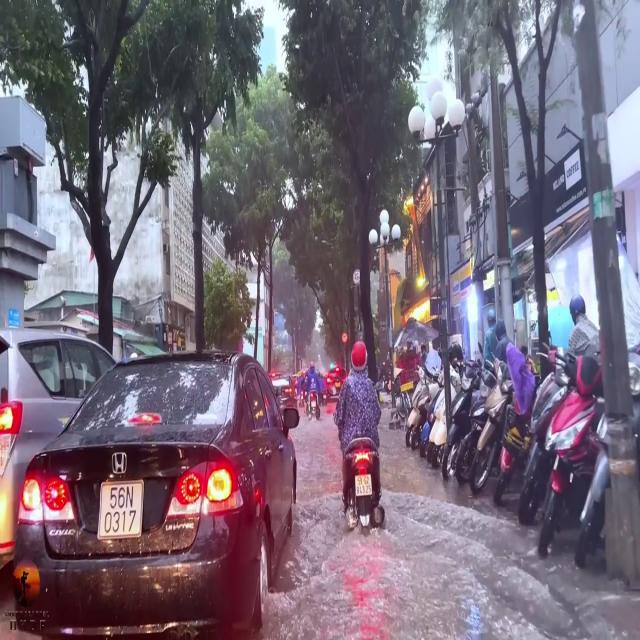bien_trang: (98, 482, 141, 538), (355, 471, 374, 498)
